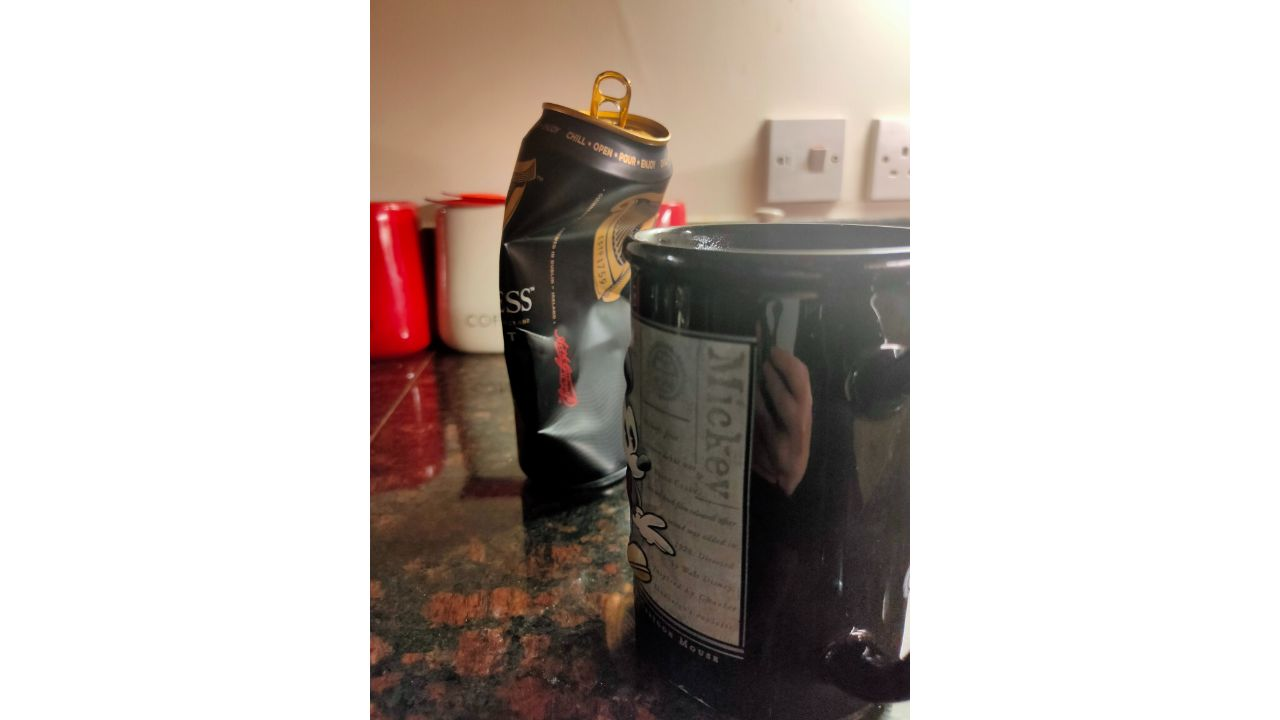Can: (497, 67, 674, 498)
